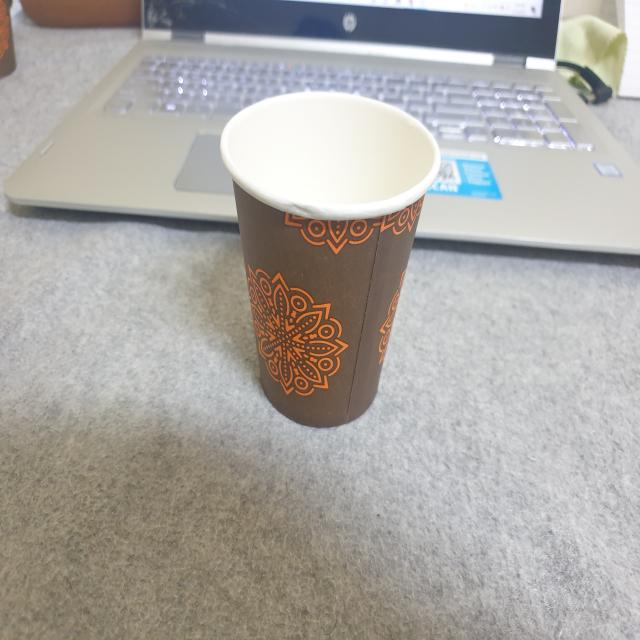cups: (211, 84, 449, 440)
